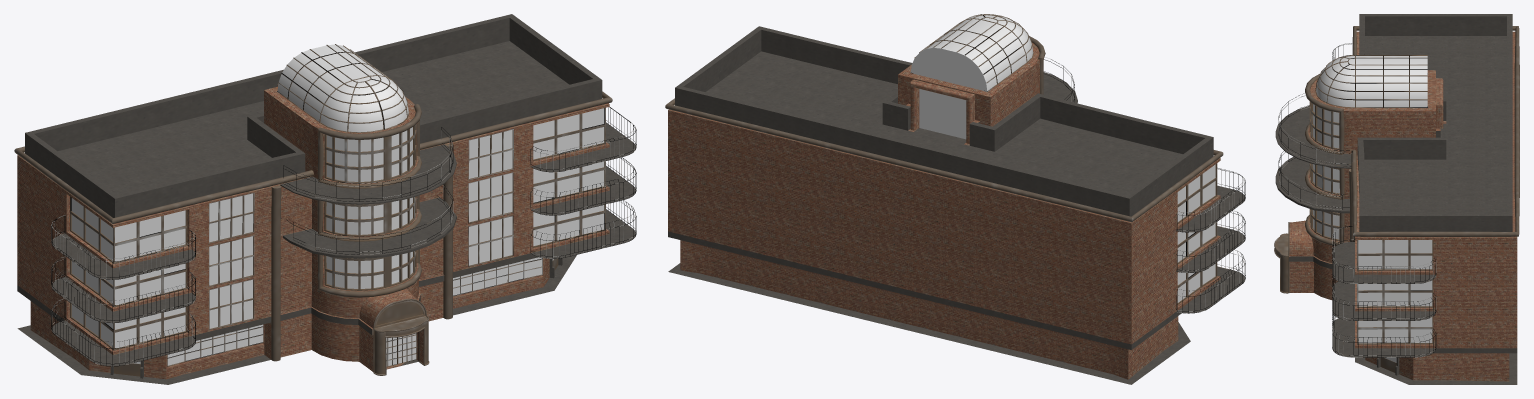
Rendered from EdificioGrande.obj.
3 views of the same model, side by side, from view 1: azimuth 30°, elevation 25°; view 2: azimuth 150°, elevation 25°; view 3: azimuth 270°, elevation 25° (orthographic). The views are drawn at different scales.
Visible parts, largest first — view 1: Object_6_Concrete_Baked, Object_6_Brick_Baked, Object_6_Glass_Baked, Object_6_Trim_Baked; view 2: Object_6_Brick_Baked, Object_6_Concrete_Baked, Object_6_Glass_Baked, Object_6_Trim_Baked; view 3: Object_6_Concrete_Baked, Object_6_Brick_Baked, Object_6_Trim_Baked, Object_6_Glass_Baked.
Part boxes in pixels (bbox=[...]): Object_6_Concrete_Baked: bbox=[17, 14, 635, 384]; Object_6_Brick_Baked: bbox=[17, 84, 609, 379]; Object_6_Glass_Baked: bbox=[71, 44, 604, 366]; Object_6_Trim_Baked: bbox=[14, 44, 636, 376]; Object_6_Brick_Baked: bbox=[668, 42, 1220, 379]; Object_6_Concrete_Baked: bbox=[668, 26, 1245, 384]; Object_6_Glass_Baked: bbox=[910, 15, 1215, 302]; Object_6_Trim_Baked: bbox=[665, 14, 1245, 313]; Object_6_Concrete_Baked: bbox=[1275, 14, 1517, 384]; Object_6_Brick_Baked: bbox=[1289, 31, 1517, 381]; Object_6_Trim_Baked: bbox=[1274, 26, 1519, 372]; Object_6_Glass_Baked: bbox=[1313, 56, 1432, 362].
Size of the model in its own units: 98.29 by 45.11 by 45.39.
